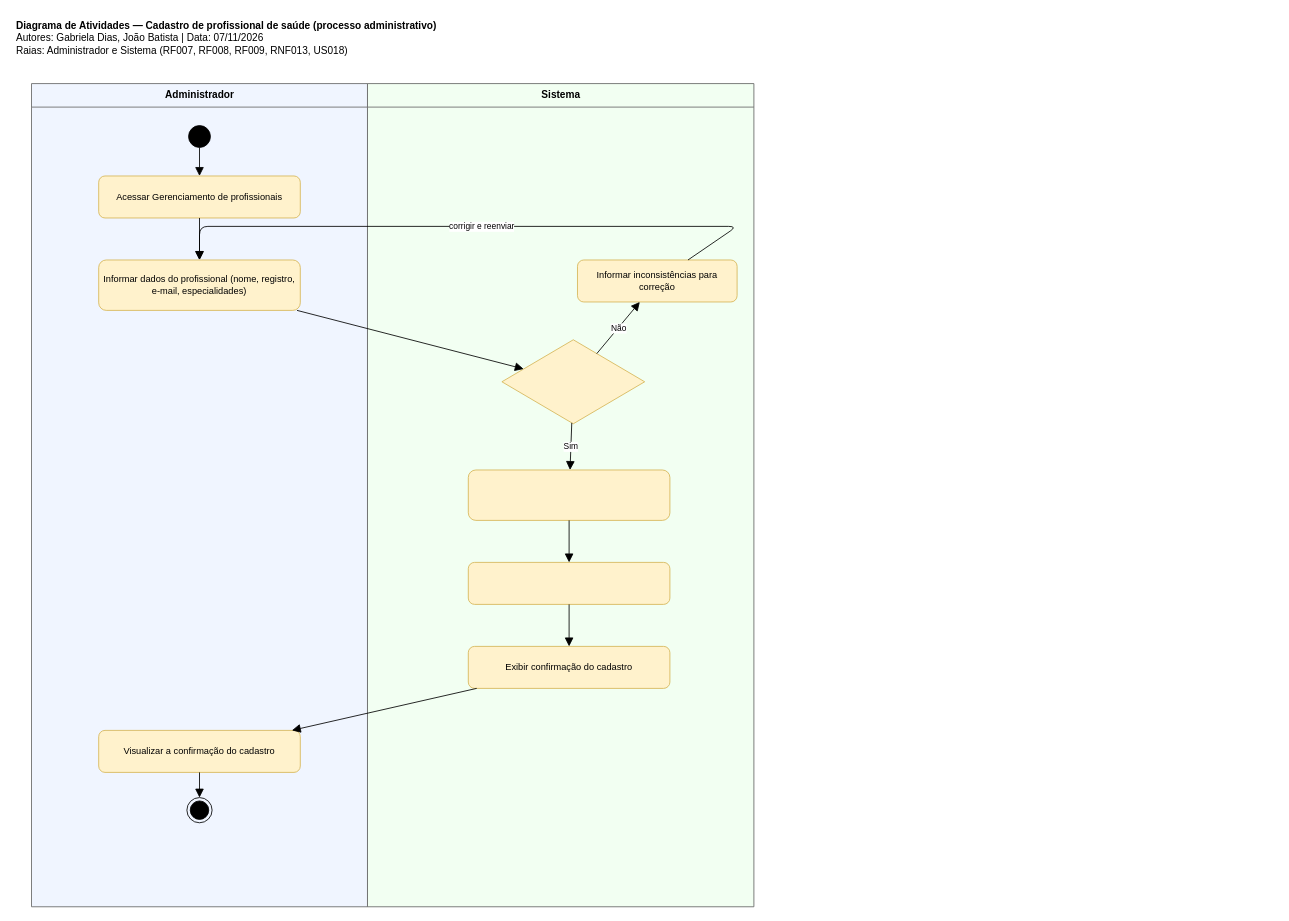
The diagram is 1289 pixels wide and 921 high, and some of its shapes have lost their labels. The box of each missing label's shape, as (x1, y1, x2, y2) in pixels:
Dados válidos?: (501, 339, 645, 424)
Registrar a operação na auditoria: (467, 562, 670, 604)
Registrar profissional vinculado à clínica e às especialidades: (467, 469, 670, 520)
